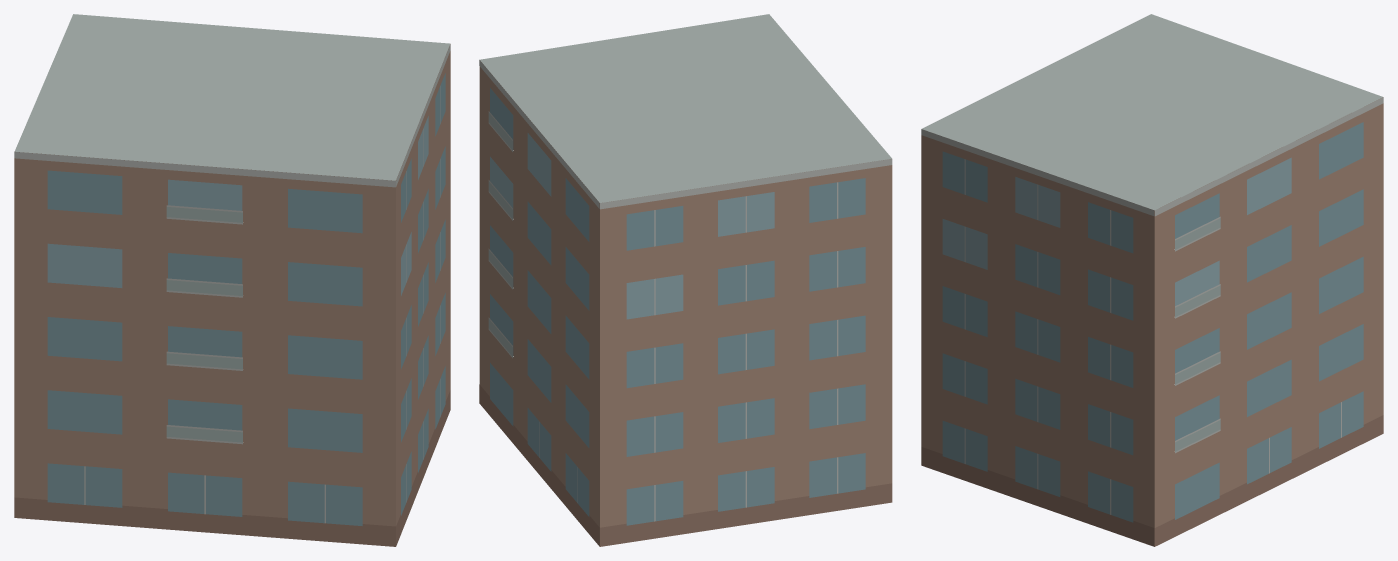
Rendered from survey-upis-32928417.glb.
The picture shows the model from 3 angles, left to right: view 1: azimuth 30°, elevation 25°; view 2: azimuth 150°, elevation 25°; view 3: azimuth 270°, elevation 25°; orthographic projection. The views are drawn at different scales.
Parts seen in each view (by area): view 1: survey-upis-32928417.tmp; view 2: survey-upis-32928417.tmp; view 3: survey-upis-32928417.tmp.
Boxes of the visible parts, x1,y1,x2,y2 form: survey-upis-32928417.tmp: [14, 14, 450, 546]; survey-upis-32928417.tmp: [479, 14, 892, 546]; survey-upis-32928417.tmp: [921, 14, 1383, 546].
Bounding box in the file's own units: 16.78 × 13.4 × 16.69.
